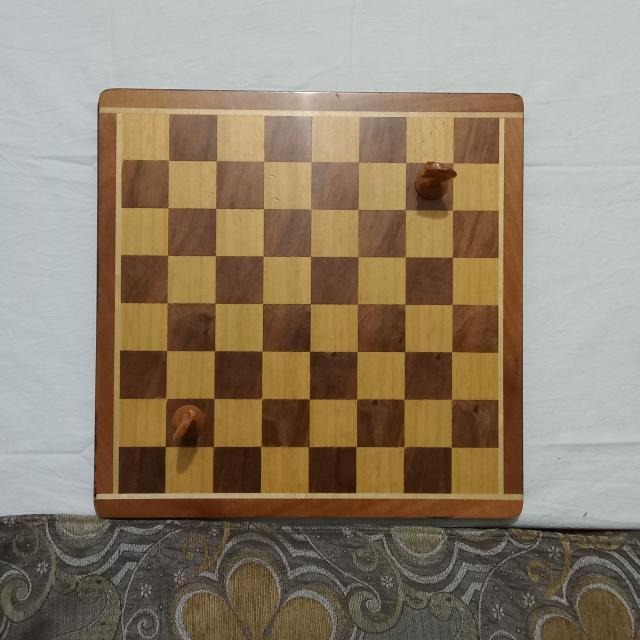white-knight: (415, 158, 459, 201), (172, 400, 206, 442)
